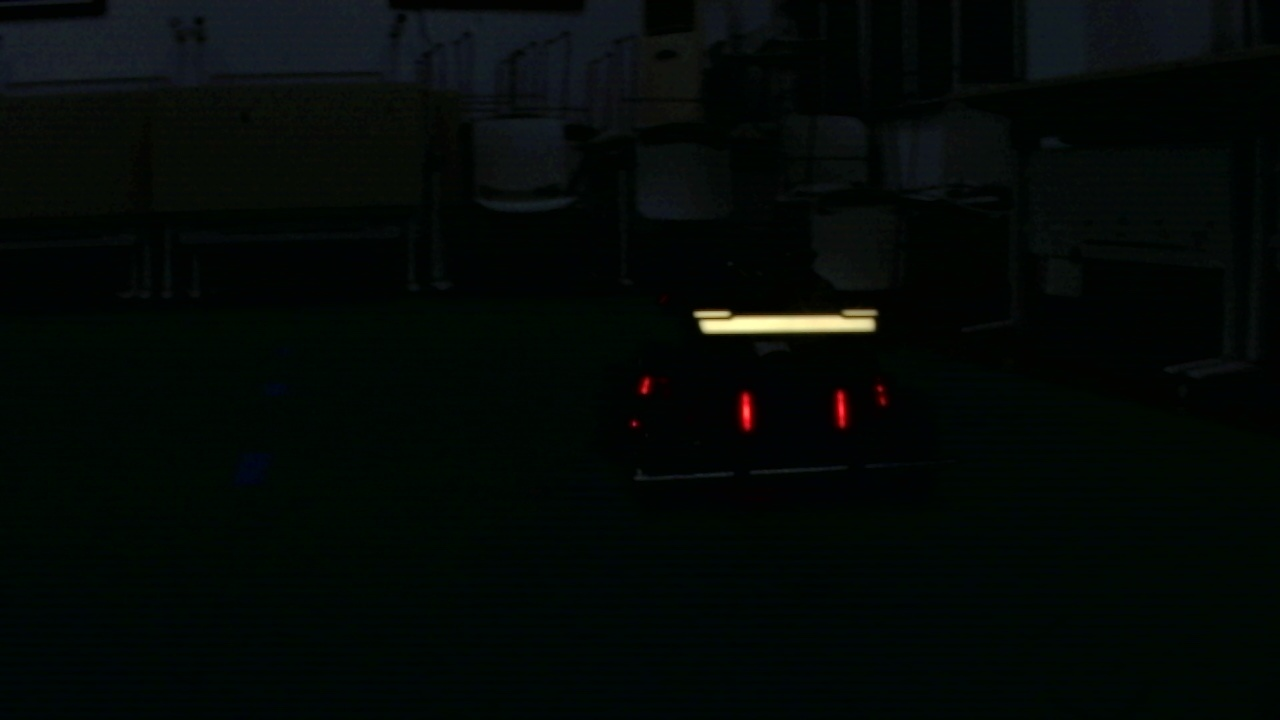lamp: (739, 390, 753, 430), (833, 392, 845, 428)
pair1: (739, 389, 849, 429)
